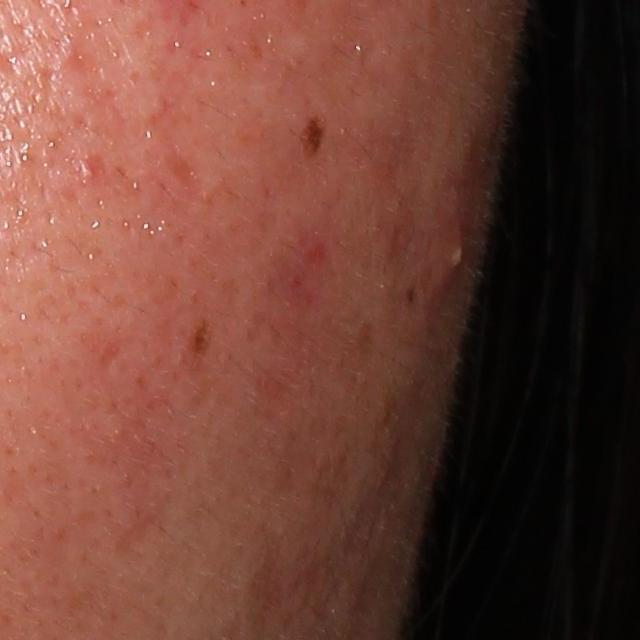atrophic_scar: (155, 146, 204, 190), (99, 340, 122, 371)
nevus: (297, 112, 329, 159), (187, 314, 213, 364)
pustule: (431, 220, 471, 294)
